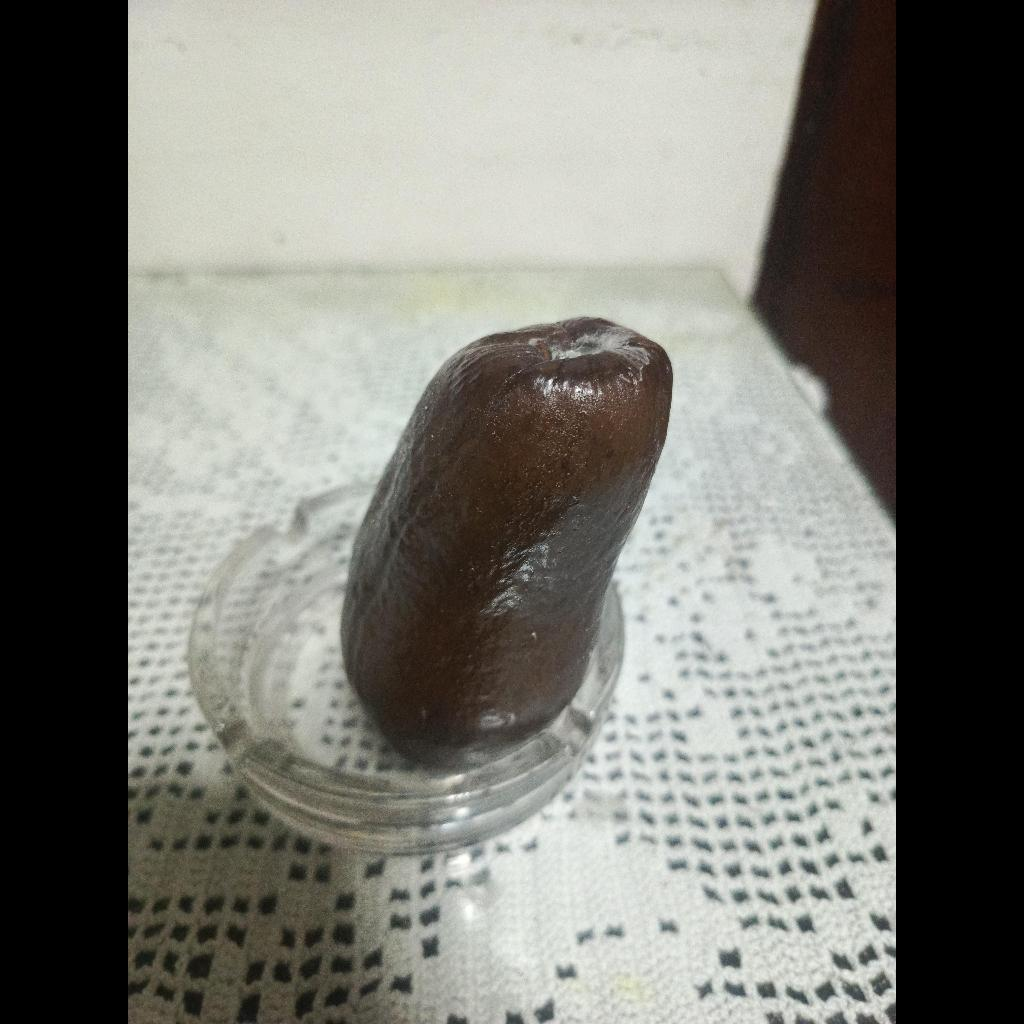stem end rot: (341, 318, 672, 768)
